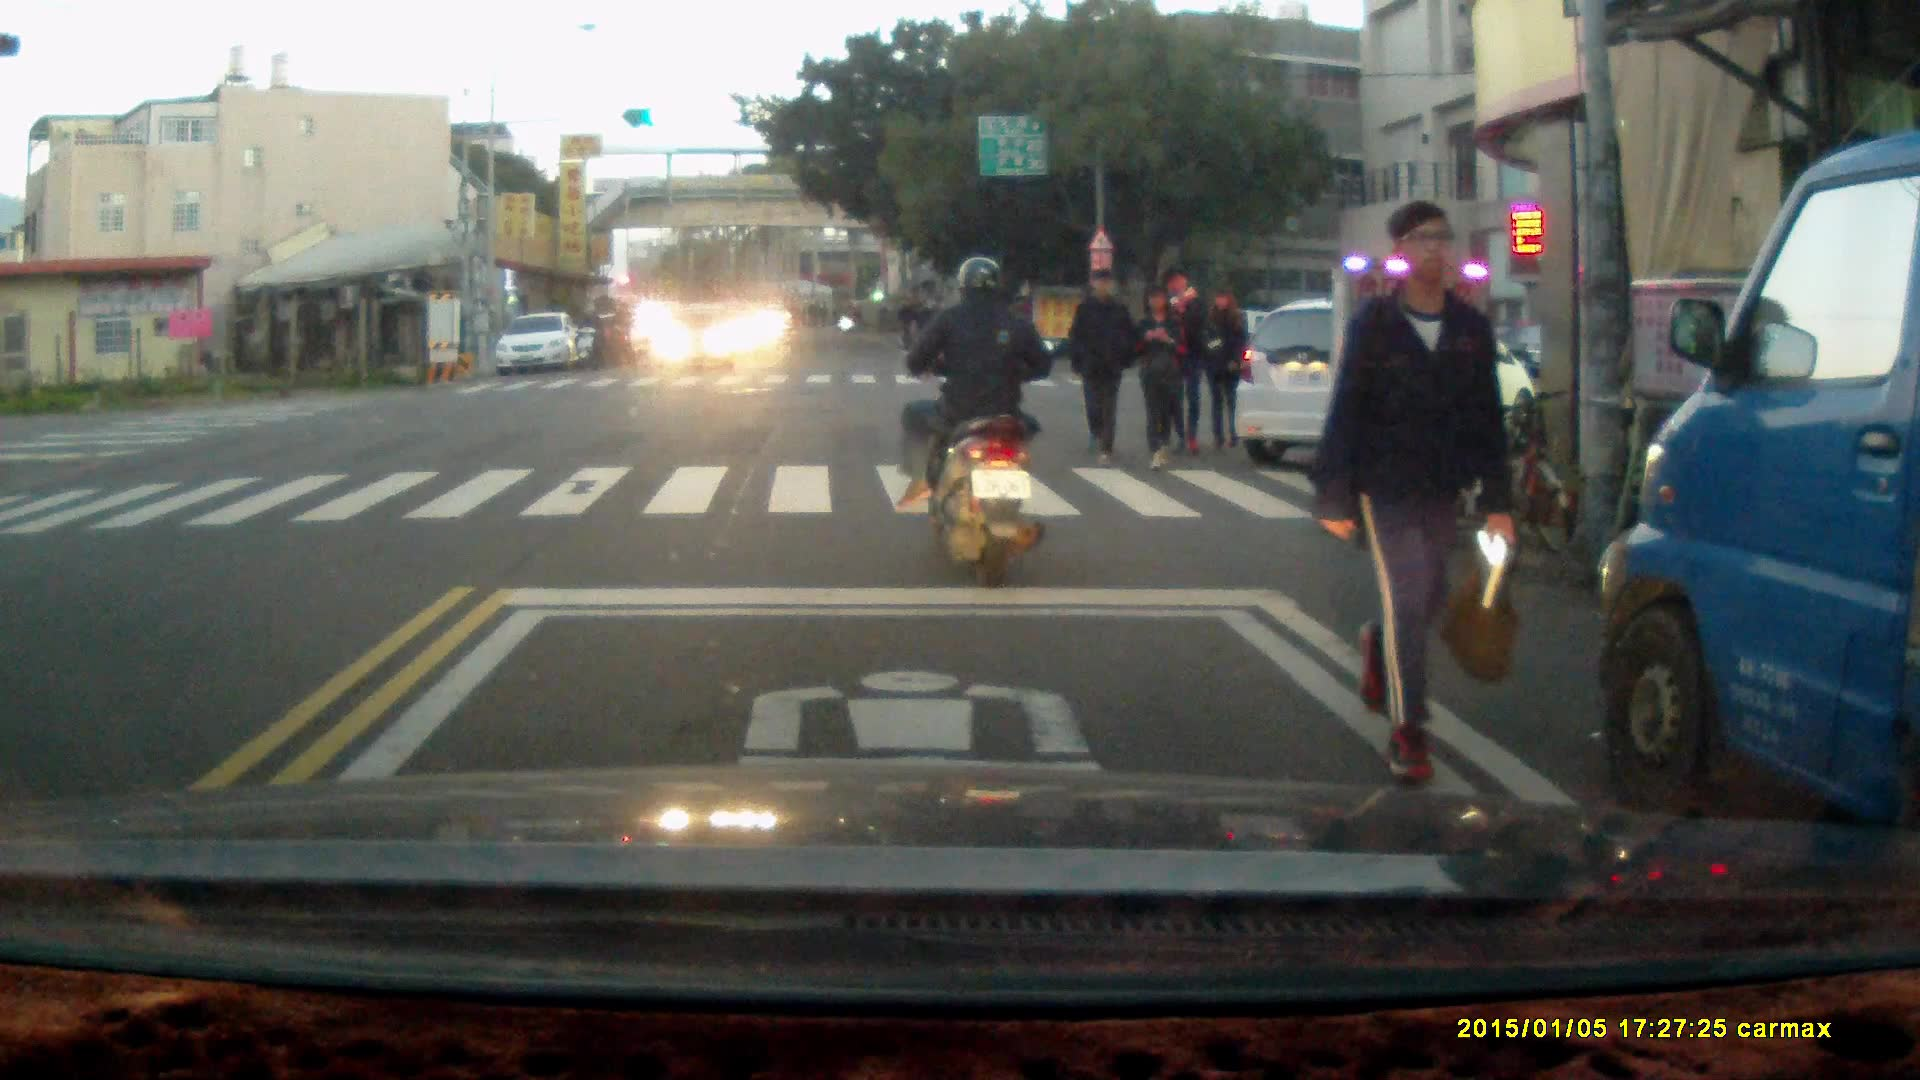pedestrian: (1310, 199, 1524, 777), (1064, 263, 1134, 465), (1132, 280, 1188, 471), (1198, 283, 1247, 452), (1164, 268, 1207, 462)
rider: (895, 254, 1050, 589), (602, 295, 636, 370), (573, 299, 606, 373)
vehicle: (1598, 125, 1920, 899), (1240, 303, 1548, 466), (648, 292, 741, 369), (493, 311, 584, 378)
